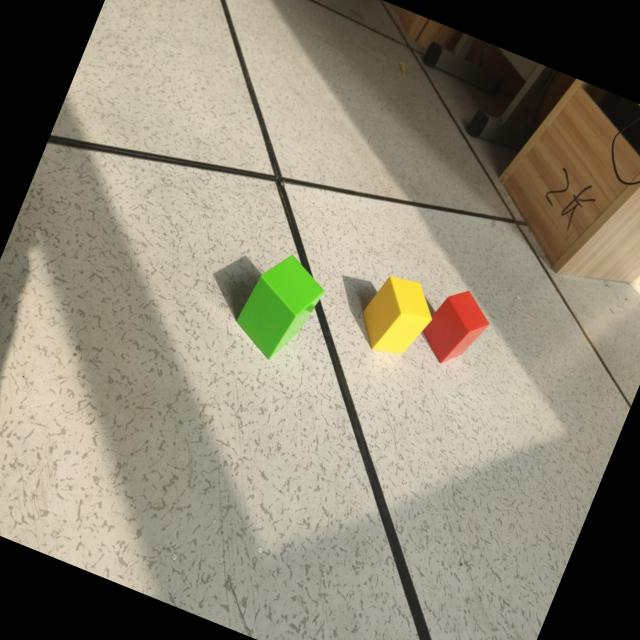green: (233, 257, 322, 359)
red: (419, 288, 495, 365)
yellow: (359, 276, 433, 357)
